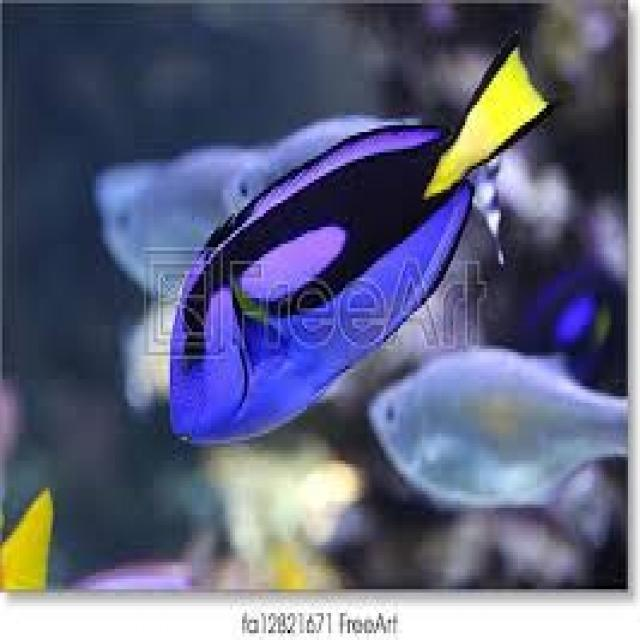BlueTang: (160, 29, 570, 468)
